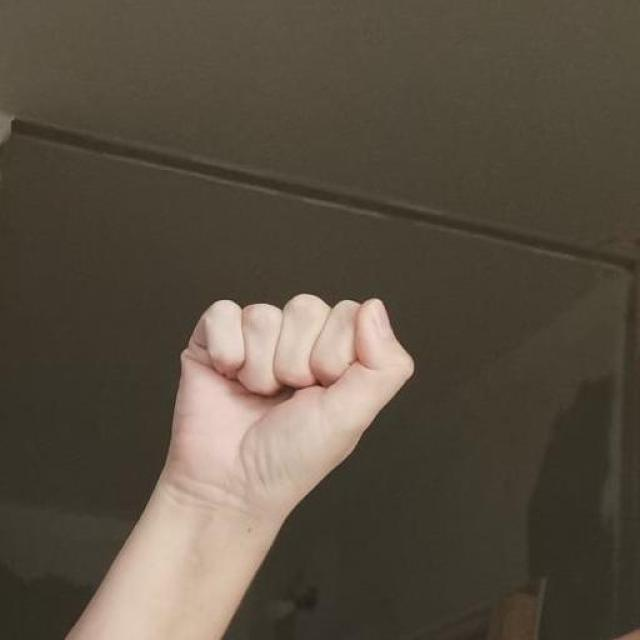hand: (158, 291, 416, 520)
